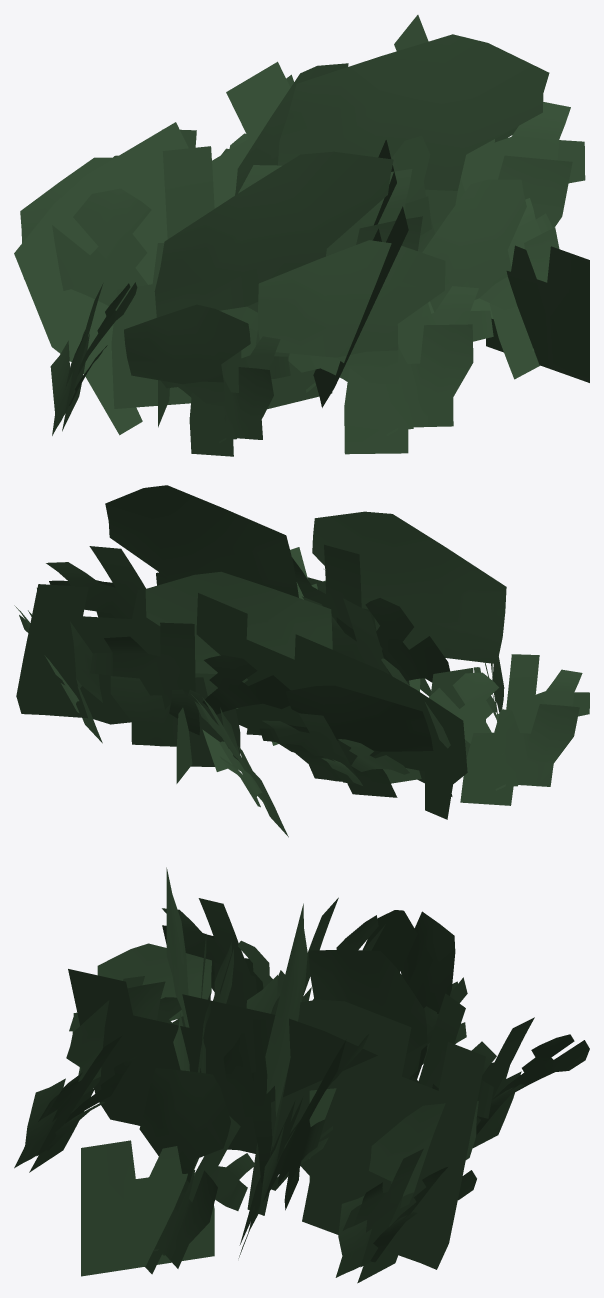
The model's file is SM_ocean_scatterPlant_01_F.fbx.
The picture shows the model from 3 angles, top to bottom: view 1: azimuth 30°, elevation 25°; view 2: azimuth 150°, elevation 25°; view 3: azimuth 270°, elevation 25°; orthographic projection. The views are drawn at different scales.
Visible parts, largest first — view 1: SM_ocean_scatterPlant_01_F_LOD0; view 2: SM_ocean_scatterPlant_01_F_LOD0; view 3: SM_ocean_scatterPlant_01_F_LOD0.
Boxes of the visible parts, x1,y1,x2,y2 form: SM_ocean_scatterPlant_01_F_LOD0: (14, 15, 589, 456); SM_ocean_scatterPlant_01_F_LOD0: (14, 485, 589, 837); SM_ocean_scatterPlant_01_F_LOD0: (14, 867, 589, 1283).
Size of what is drawn, in the model's own units: 60.74 by 48.76 by 31.11.
